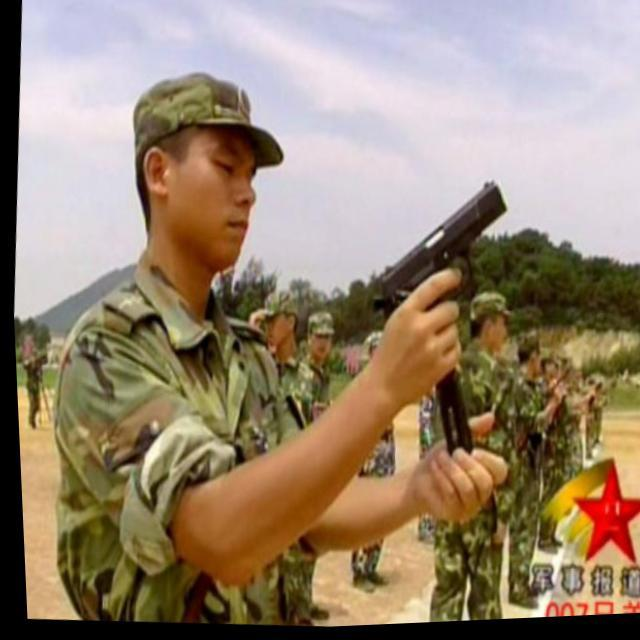weapon: (346, 173, 524, 546)
